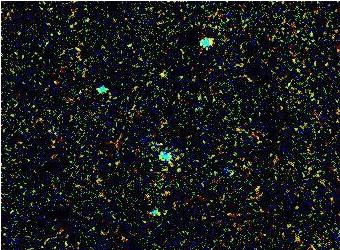star: (273, 208, 303, 238)
